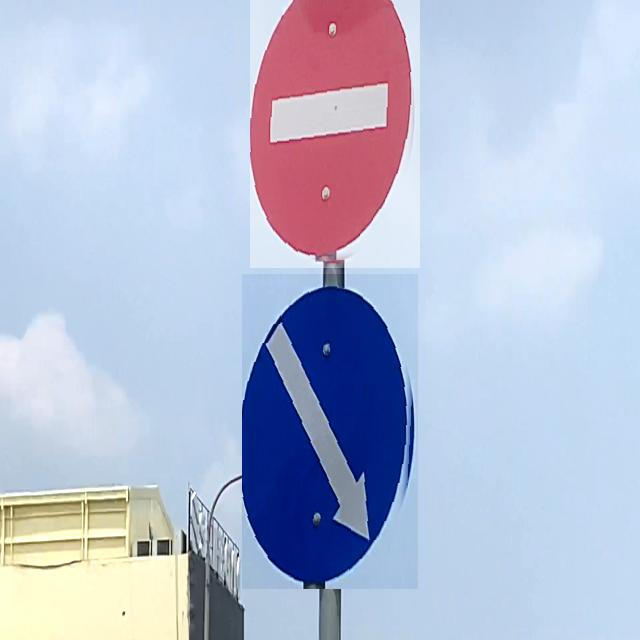27: (242, 274, 418, 589)
bien_chi_dan: (250, 0, 420, 268)
